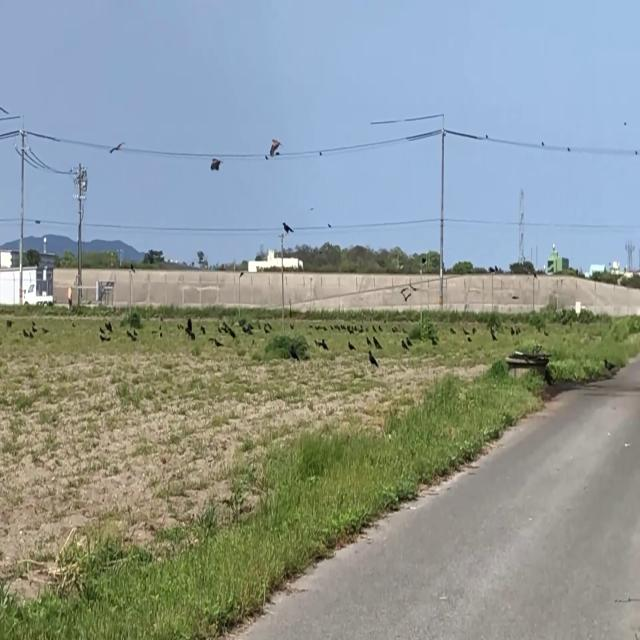bird: (269, 133, 280, 163), (111, 134, 122, 159), (211, 153, 221, 176), (369, 346, 376, 370), (106, 315, 112, 334), (402, 338, 406, 356), (349, 336, 353, 353), (511, 323, 514, 338), (328, 220, 331, 232)
